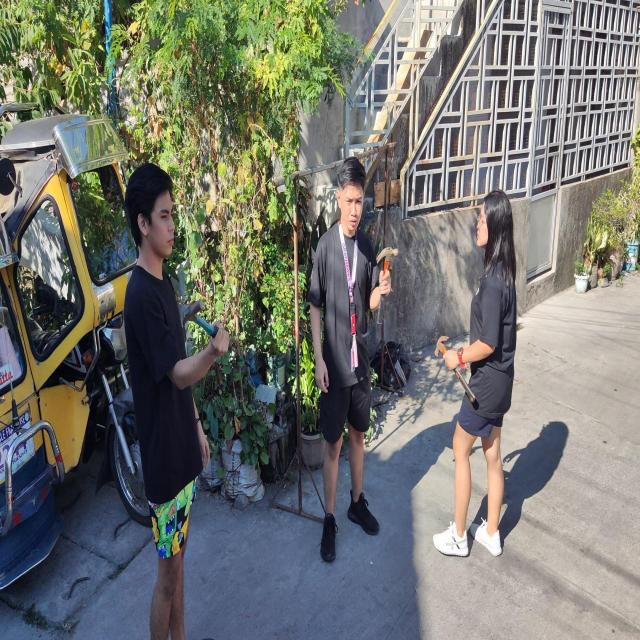hammer: (434, 336, 476, 403), (182, 298, 232, 350), (376, 247, 398, 325)
